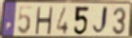3: (112, 6, 127, 36)
4: (55, 7, 69, 36)
5: (73, 6, 91, 37), (17, 5, 34, 36)
H: (34, 6, 54, 35)
J: (91, 5, 109, 37)
